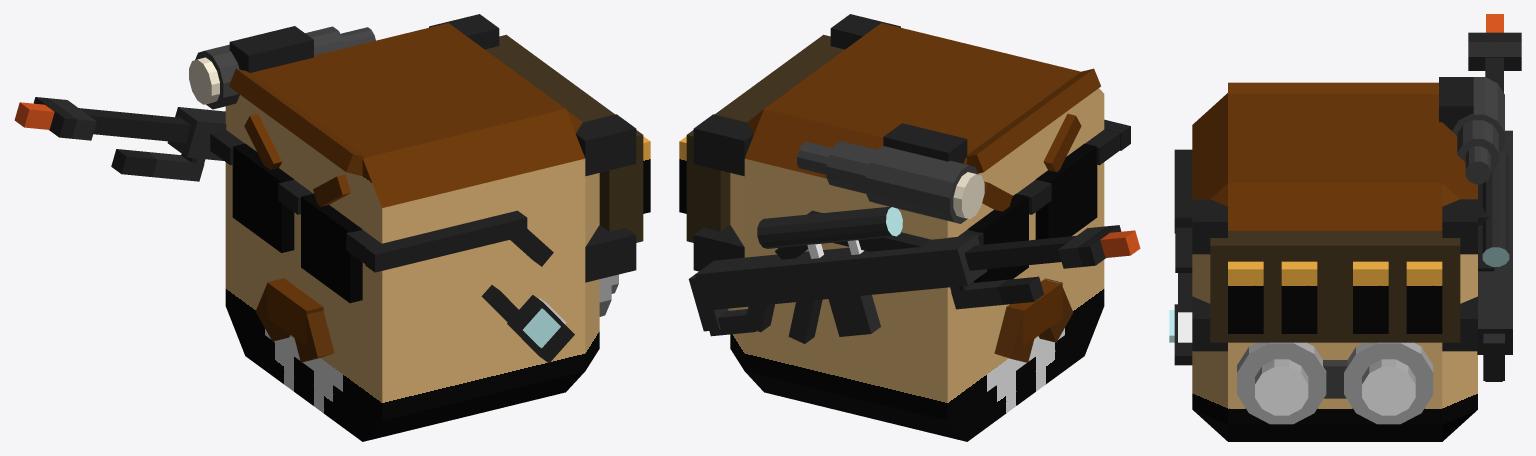
Rendered from playerShootingsniper.gltf.
The picture shows the model from 3 angles, left to right: view 1: azimuth 30°, elevation 25°; view 2: azimuth 150°, elevation 25°; view 3: azimuth 270°, elevation 25°; orthographic projection. The views are drawn at different scales.
Parts seen in each view (by area): view 1: beveled_cuboid, cube (×26), tube (×2); view 2: beveled_cuboid, cube (×27), tube (×3), cylinder; view 3: cube (×21), beveled_cuboid, tube (×7), cylinder.
Part boxes in pixels (left/top/right/bottom): beveled_cuboid: left=225, top=23, right=599, bottom=441; cube (×26): left=14, top=14, right=643, bottom=363; tube (×2): left=189, top=26, right=345, bottom=109; beveled_cuboid: left=730, top=23, right=1104, bottom=441; cube (×27): left=679, top=14, right=1140, bottom=362; tube (×3): left=797, top=141, right=984, bottom=223; cylinder: left=757, top=206, right=902, bottom=248; cube (×21): left=1174, top=32, right=1521, bottom=398; beveled_cuboid: left=1192, top=93, right=1477, bottom=441; tube (×7): left=1237, top=77, right=1504, bottom=424; cylinder: left=1482, top=151, right=1509, bottom=266.
Bounding box in the file's own units: 1.79 × 1.06 × 1.23.
Materials: 6 (6 with a texture image).
